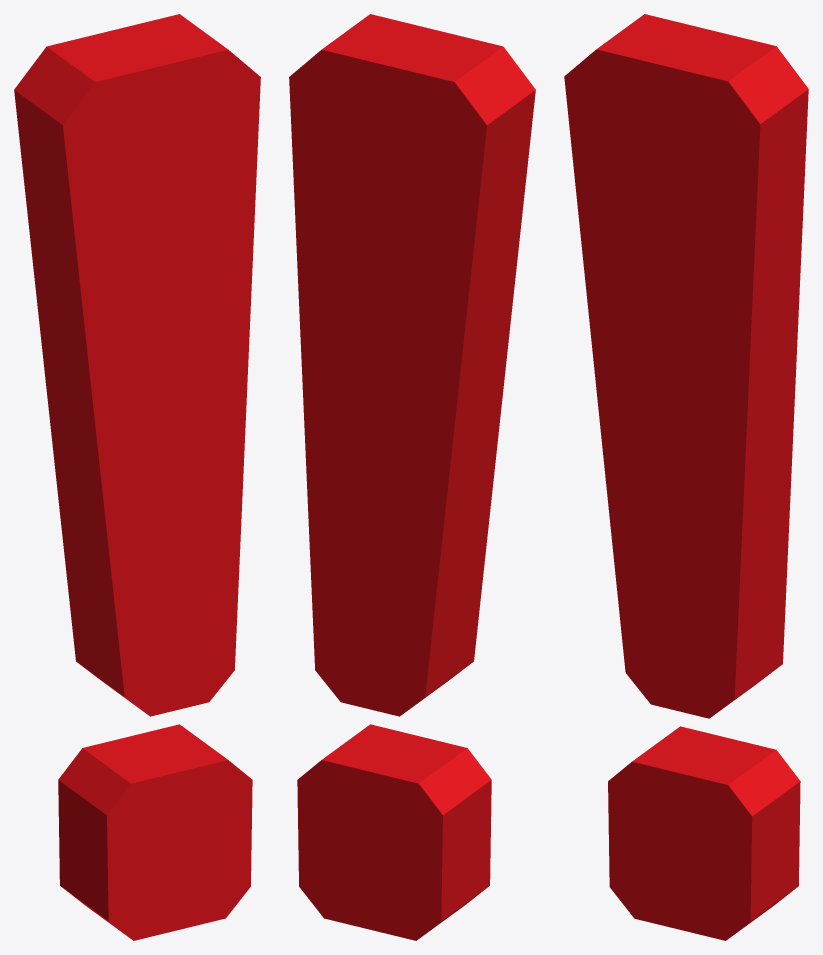
The model's file is Mark1.fbx.
The picture shows the model from 3 angles, left to right: view 1: azimuth 30°, elevation 25°; view 2: azimuth 150°, elevation 25°; view 3: azimuth 330°, elevation 25°; orthographic projection.
Visible parts, largest first — view 1: Plane.003; view 2: Plane.003; view 3: Plane.003.
Boxes of the visible parts, left/top/right/bottom form: Plane.003: left=14, top=14, right=260, bottom=940; Plane.003: left=289, top=14, right=535, bottom=940; Plane.003: left=564, top=14, right=808, bottom=940.
Size of the model in its own units: 19.9 by 83.36 by 8.48.
